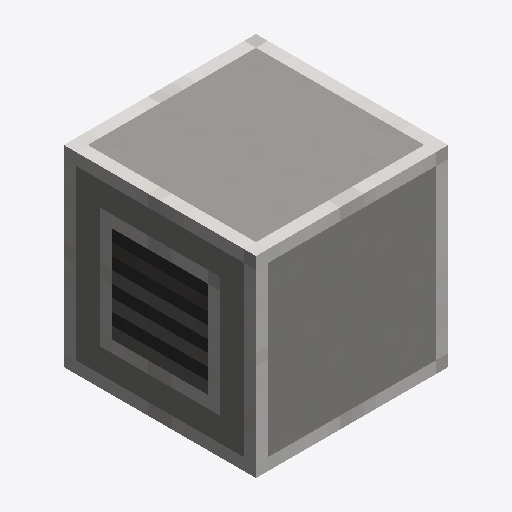
A Minecraft block model of 32 cuboids, rendered isometrically (azimuth 45°, elevation 35.3°) with the resource pack's own textures.
Visible parts, largest first — element 28, element 30, element 32, element 29, element 31.
Boxes of the visible parts, box(x1,y1,x2,y2) form: element 28: box(64, 34, 447, 269); element 30: box(64, 159, 267, 463); element 32: box(268, 166, 435, 456); element 29: box(64, 354, 447, 477); element 31: box(436, 159, 447, 359).
Bounding box in the file's own units: 16 × 16 × 16.